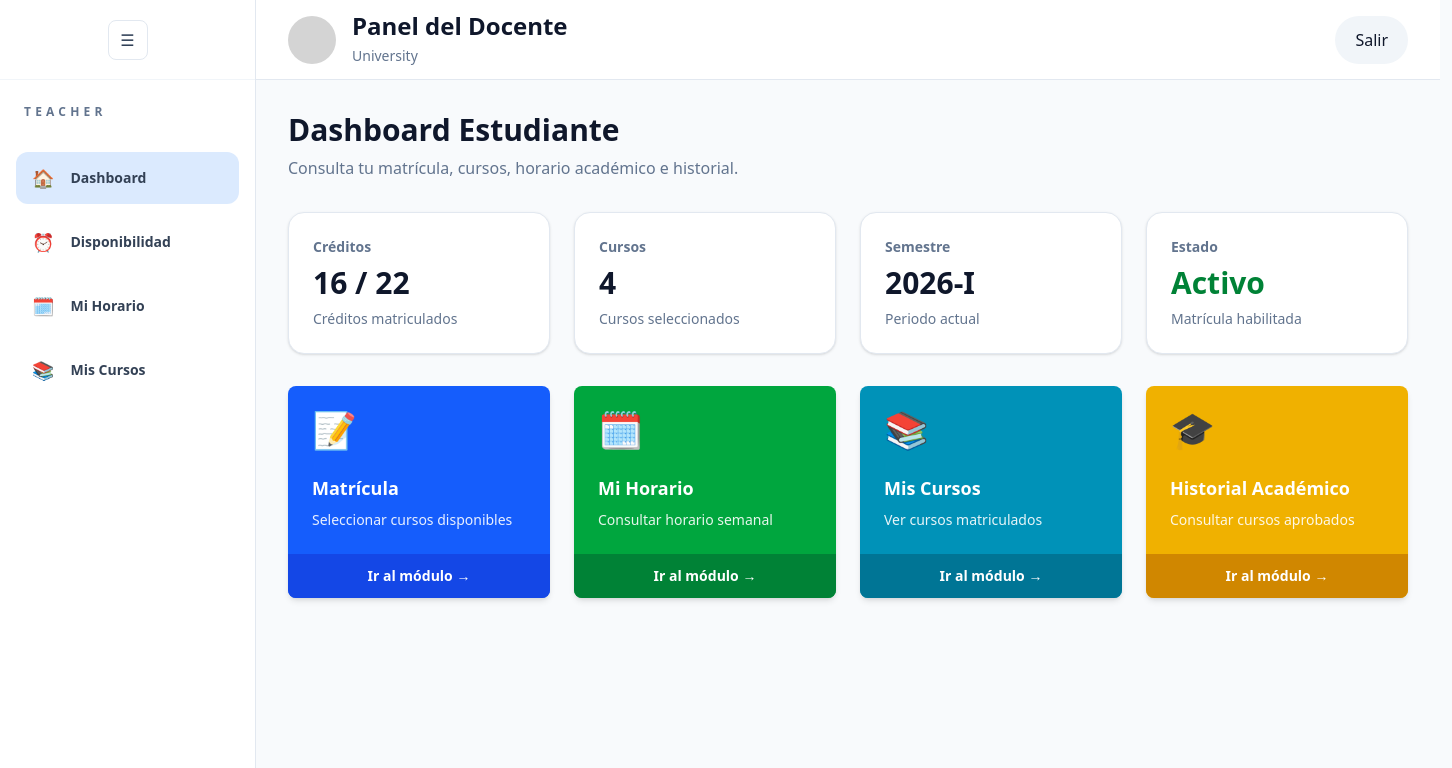
Test: Aceptacion de la navegacion por roles › permite moverse por las vistas principales del docente
Expected: the heading "Panel del Docente" is shown, [352,14,568,38]
What coordinates should you click on to do the following:
click the link "⏰ Disponibilidad"
I would click on:
 (102, 242)
Its box is [32,230,171,254].
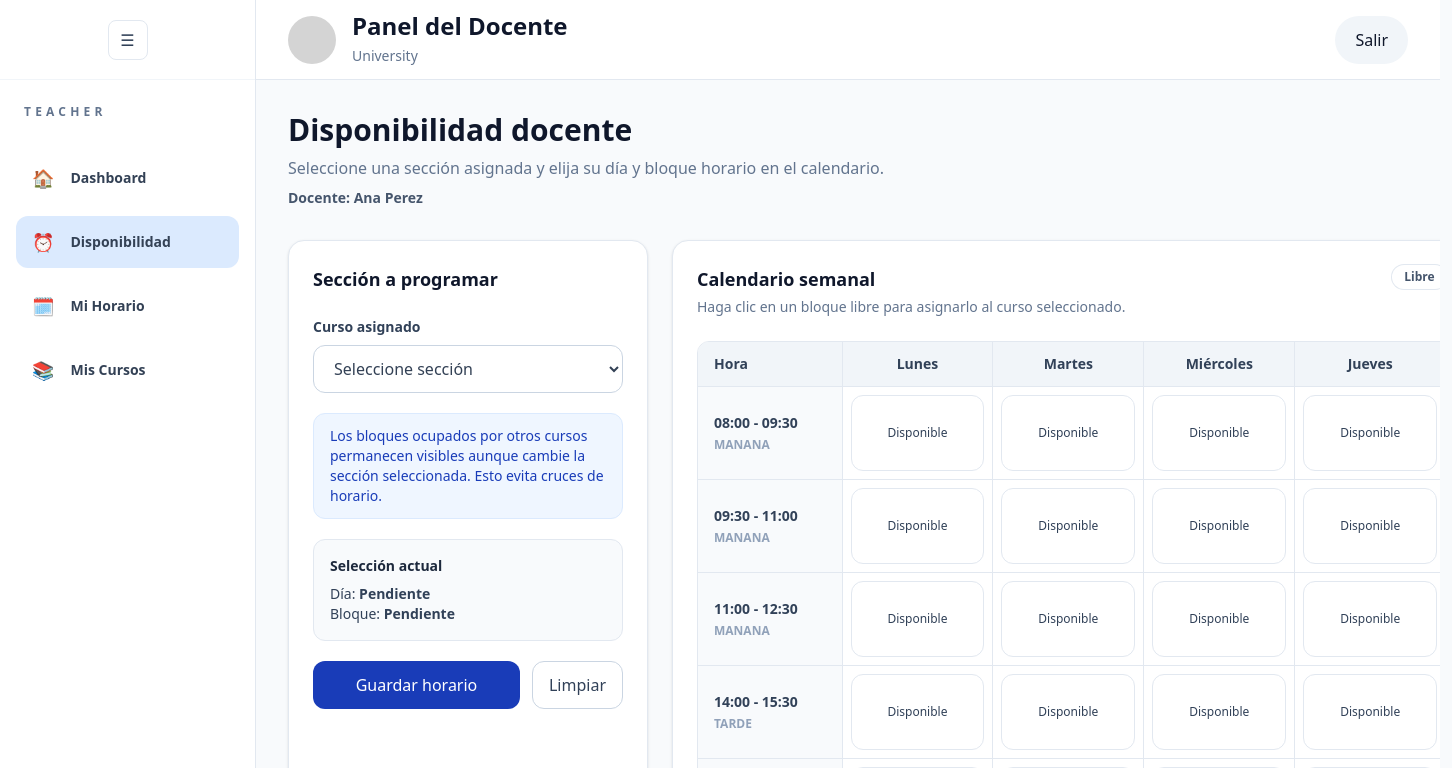
Now the heading "Disponibilidad docente" is shown, box [288,109,632,150]
What coordinates should you click on to do the following:
click the link "🗓️ Mi Horario"
I would click on:
 (89, 306)
Its box is [32,294,145,318].
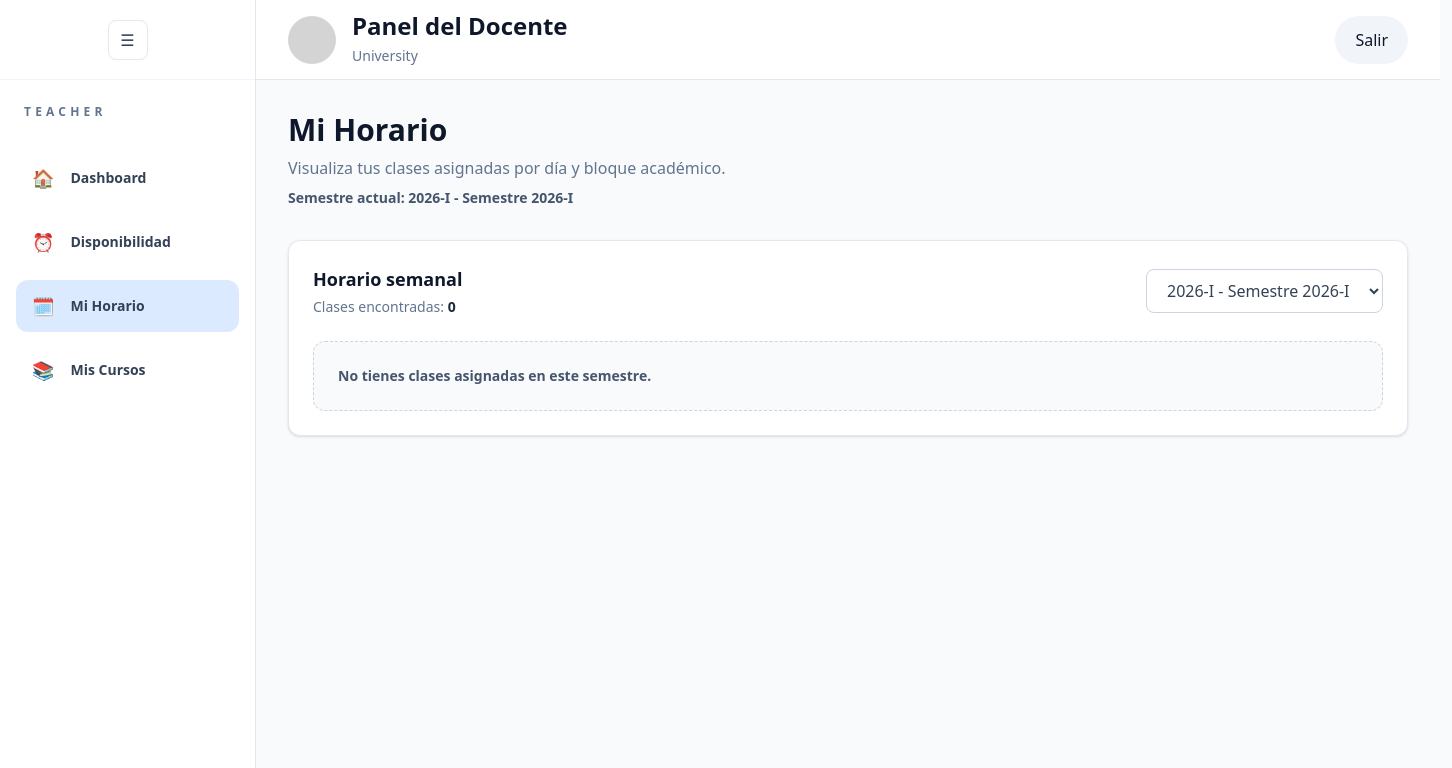
Now the text "No tienes clases asignadas en este semestre." is shown, box [338,366,651,385]
